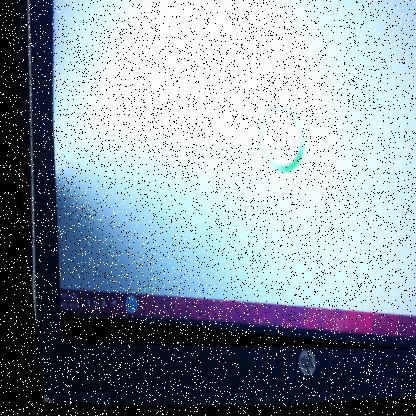fade: (23, 0, 415, 374)
